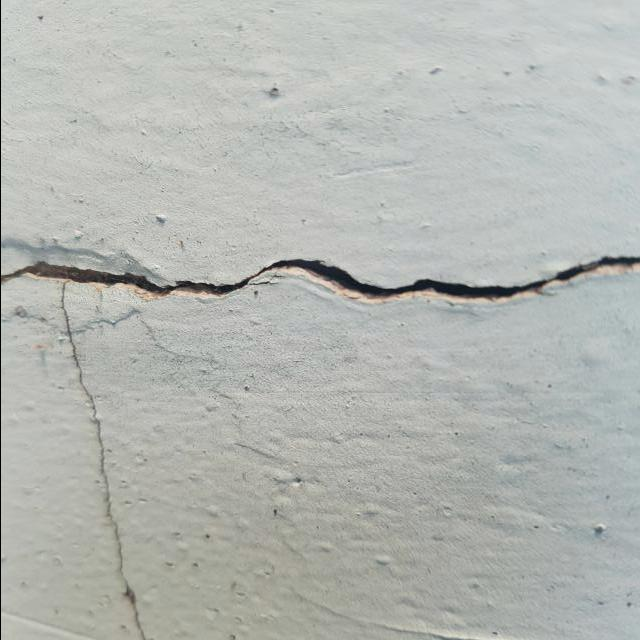SurfaceCrack: (2, 276, 180, 640)
